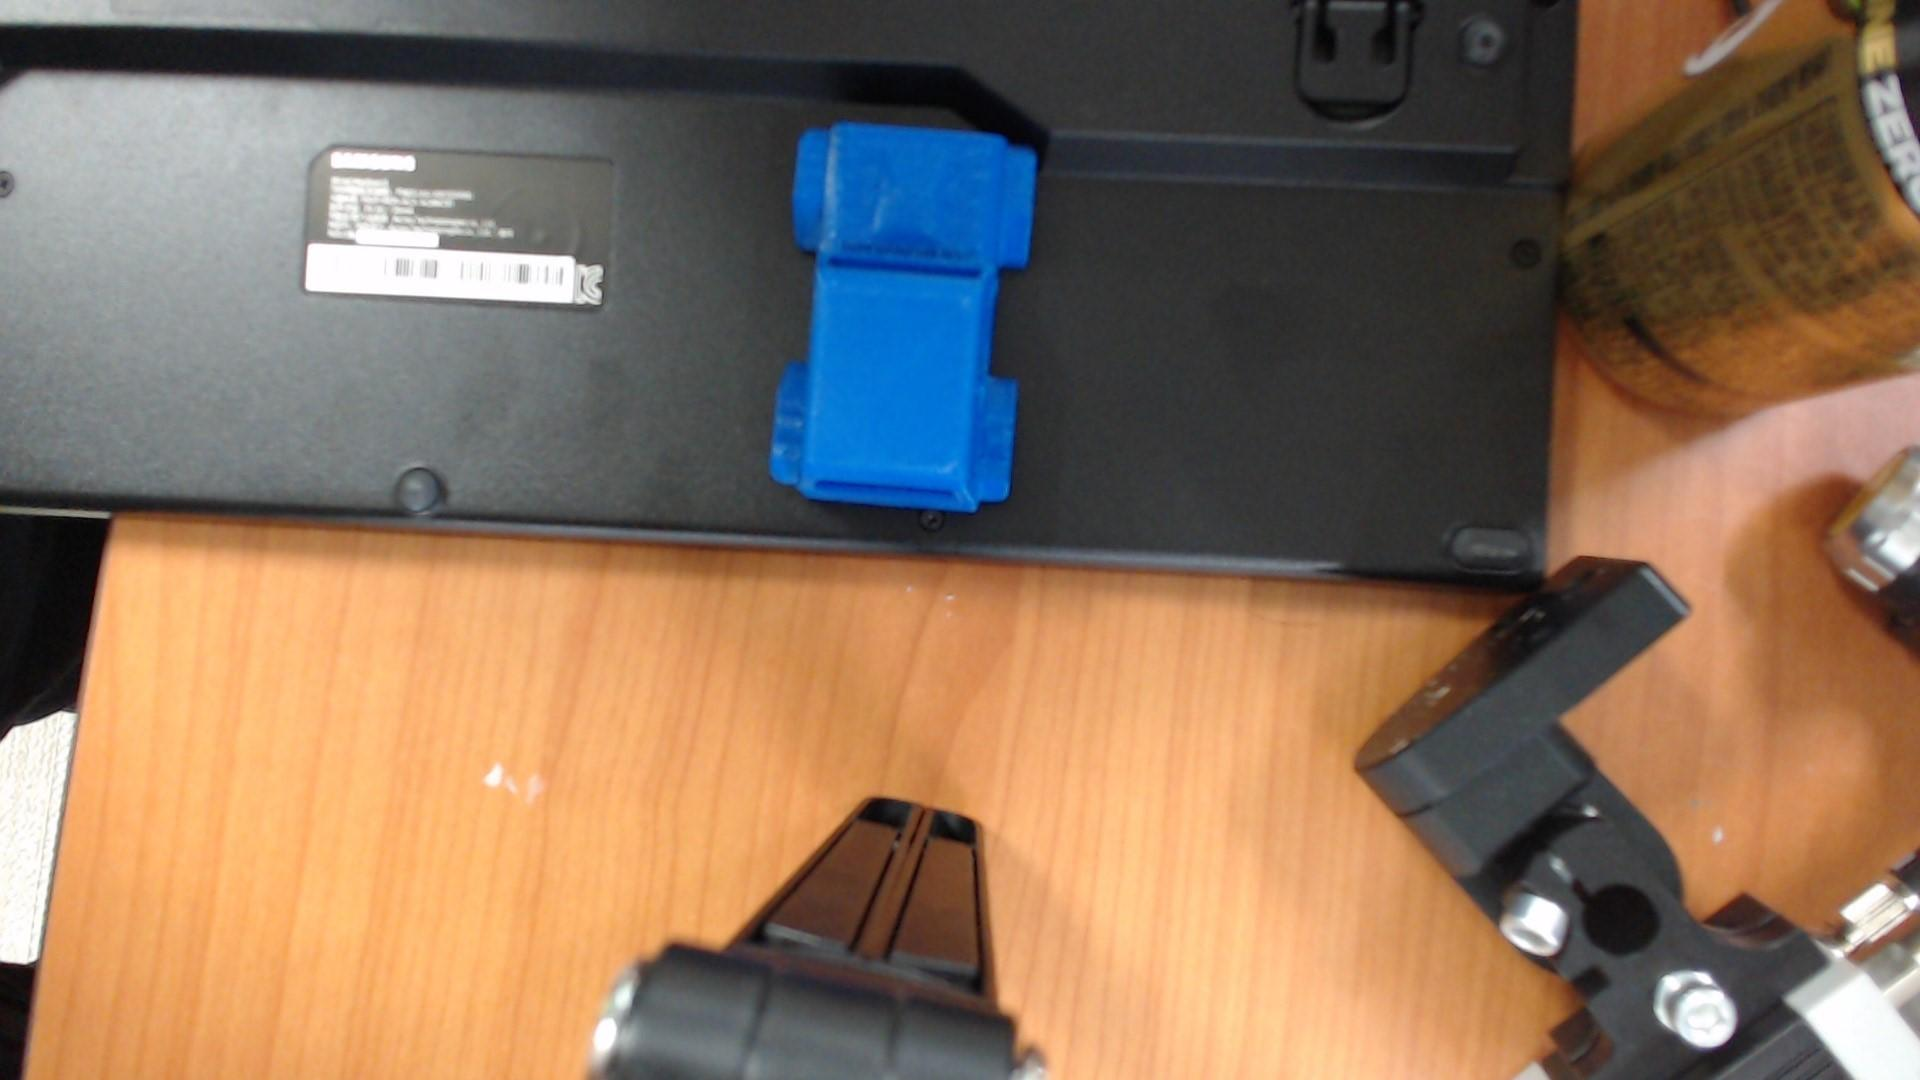Upper_ng: (769, 123, 1036, 512)
